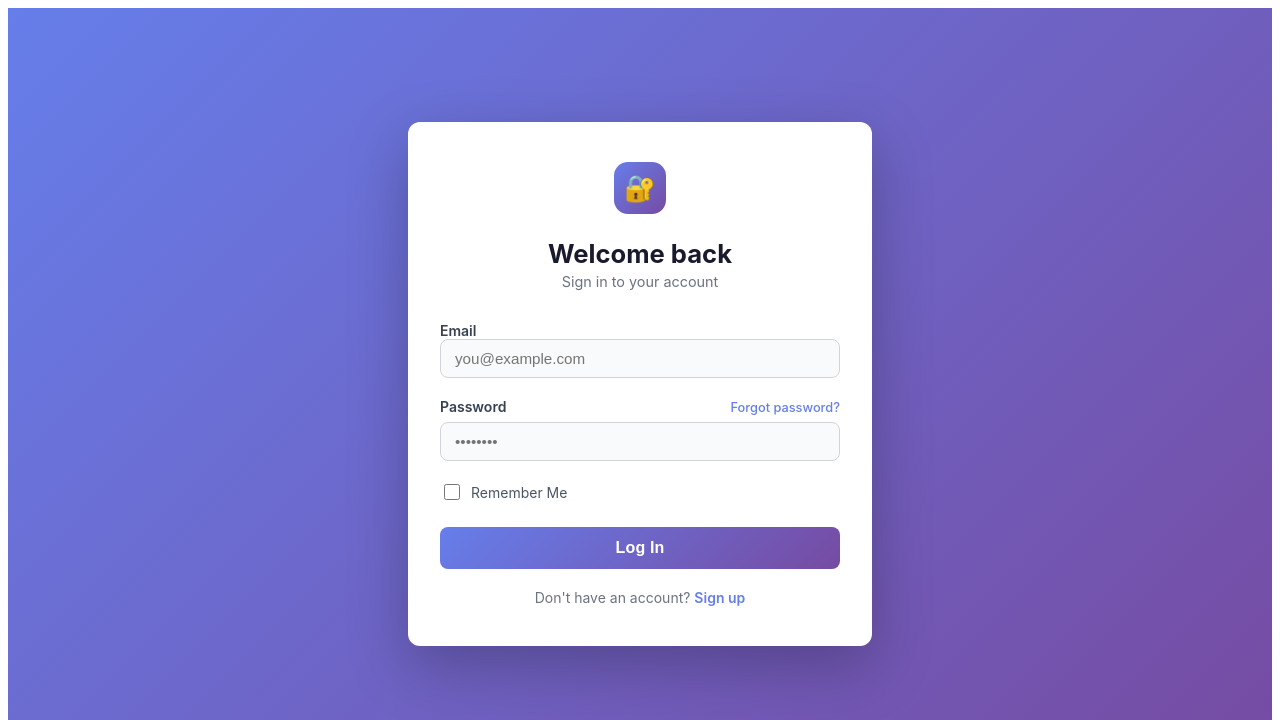
LoginPage › B — Validation › B1: shows "Email is required" when submitting with empty email
Step 1. Click the button "Log In" → (640, 548), box [440,528,840,570]
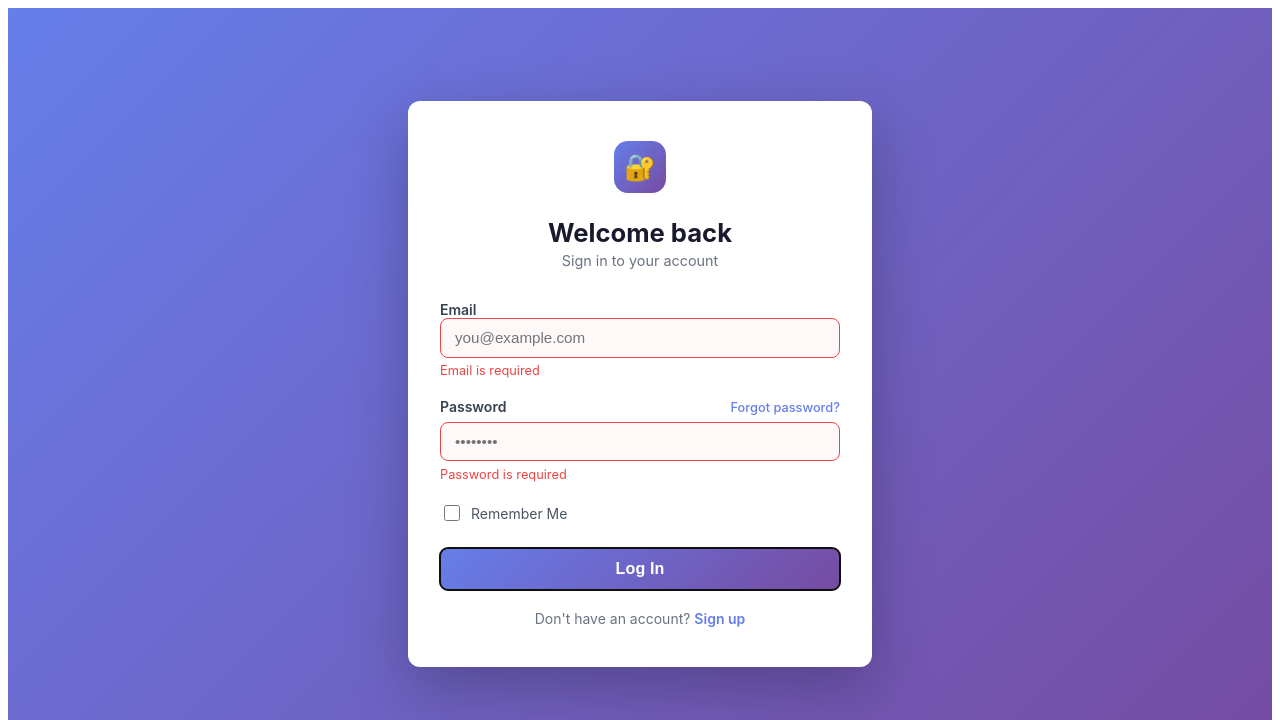
Expected: the text "Email is required" is shown, [440,363,540,378]
